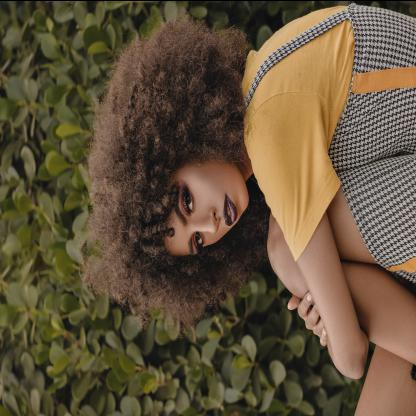Eye: (182, 185, 195, 215), (193, 230, 206, 248)
Mouth: (222, 189, 239, 227)
Nose: (196, 206, 220, 233)
